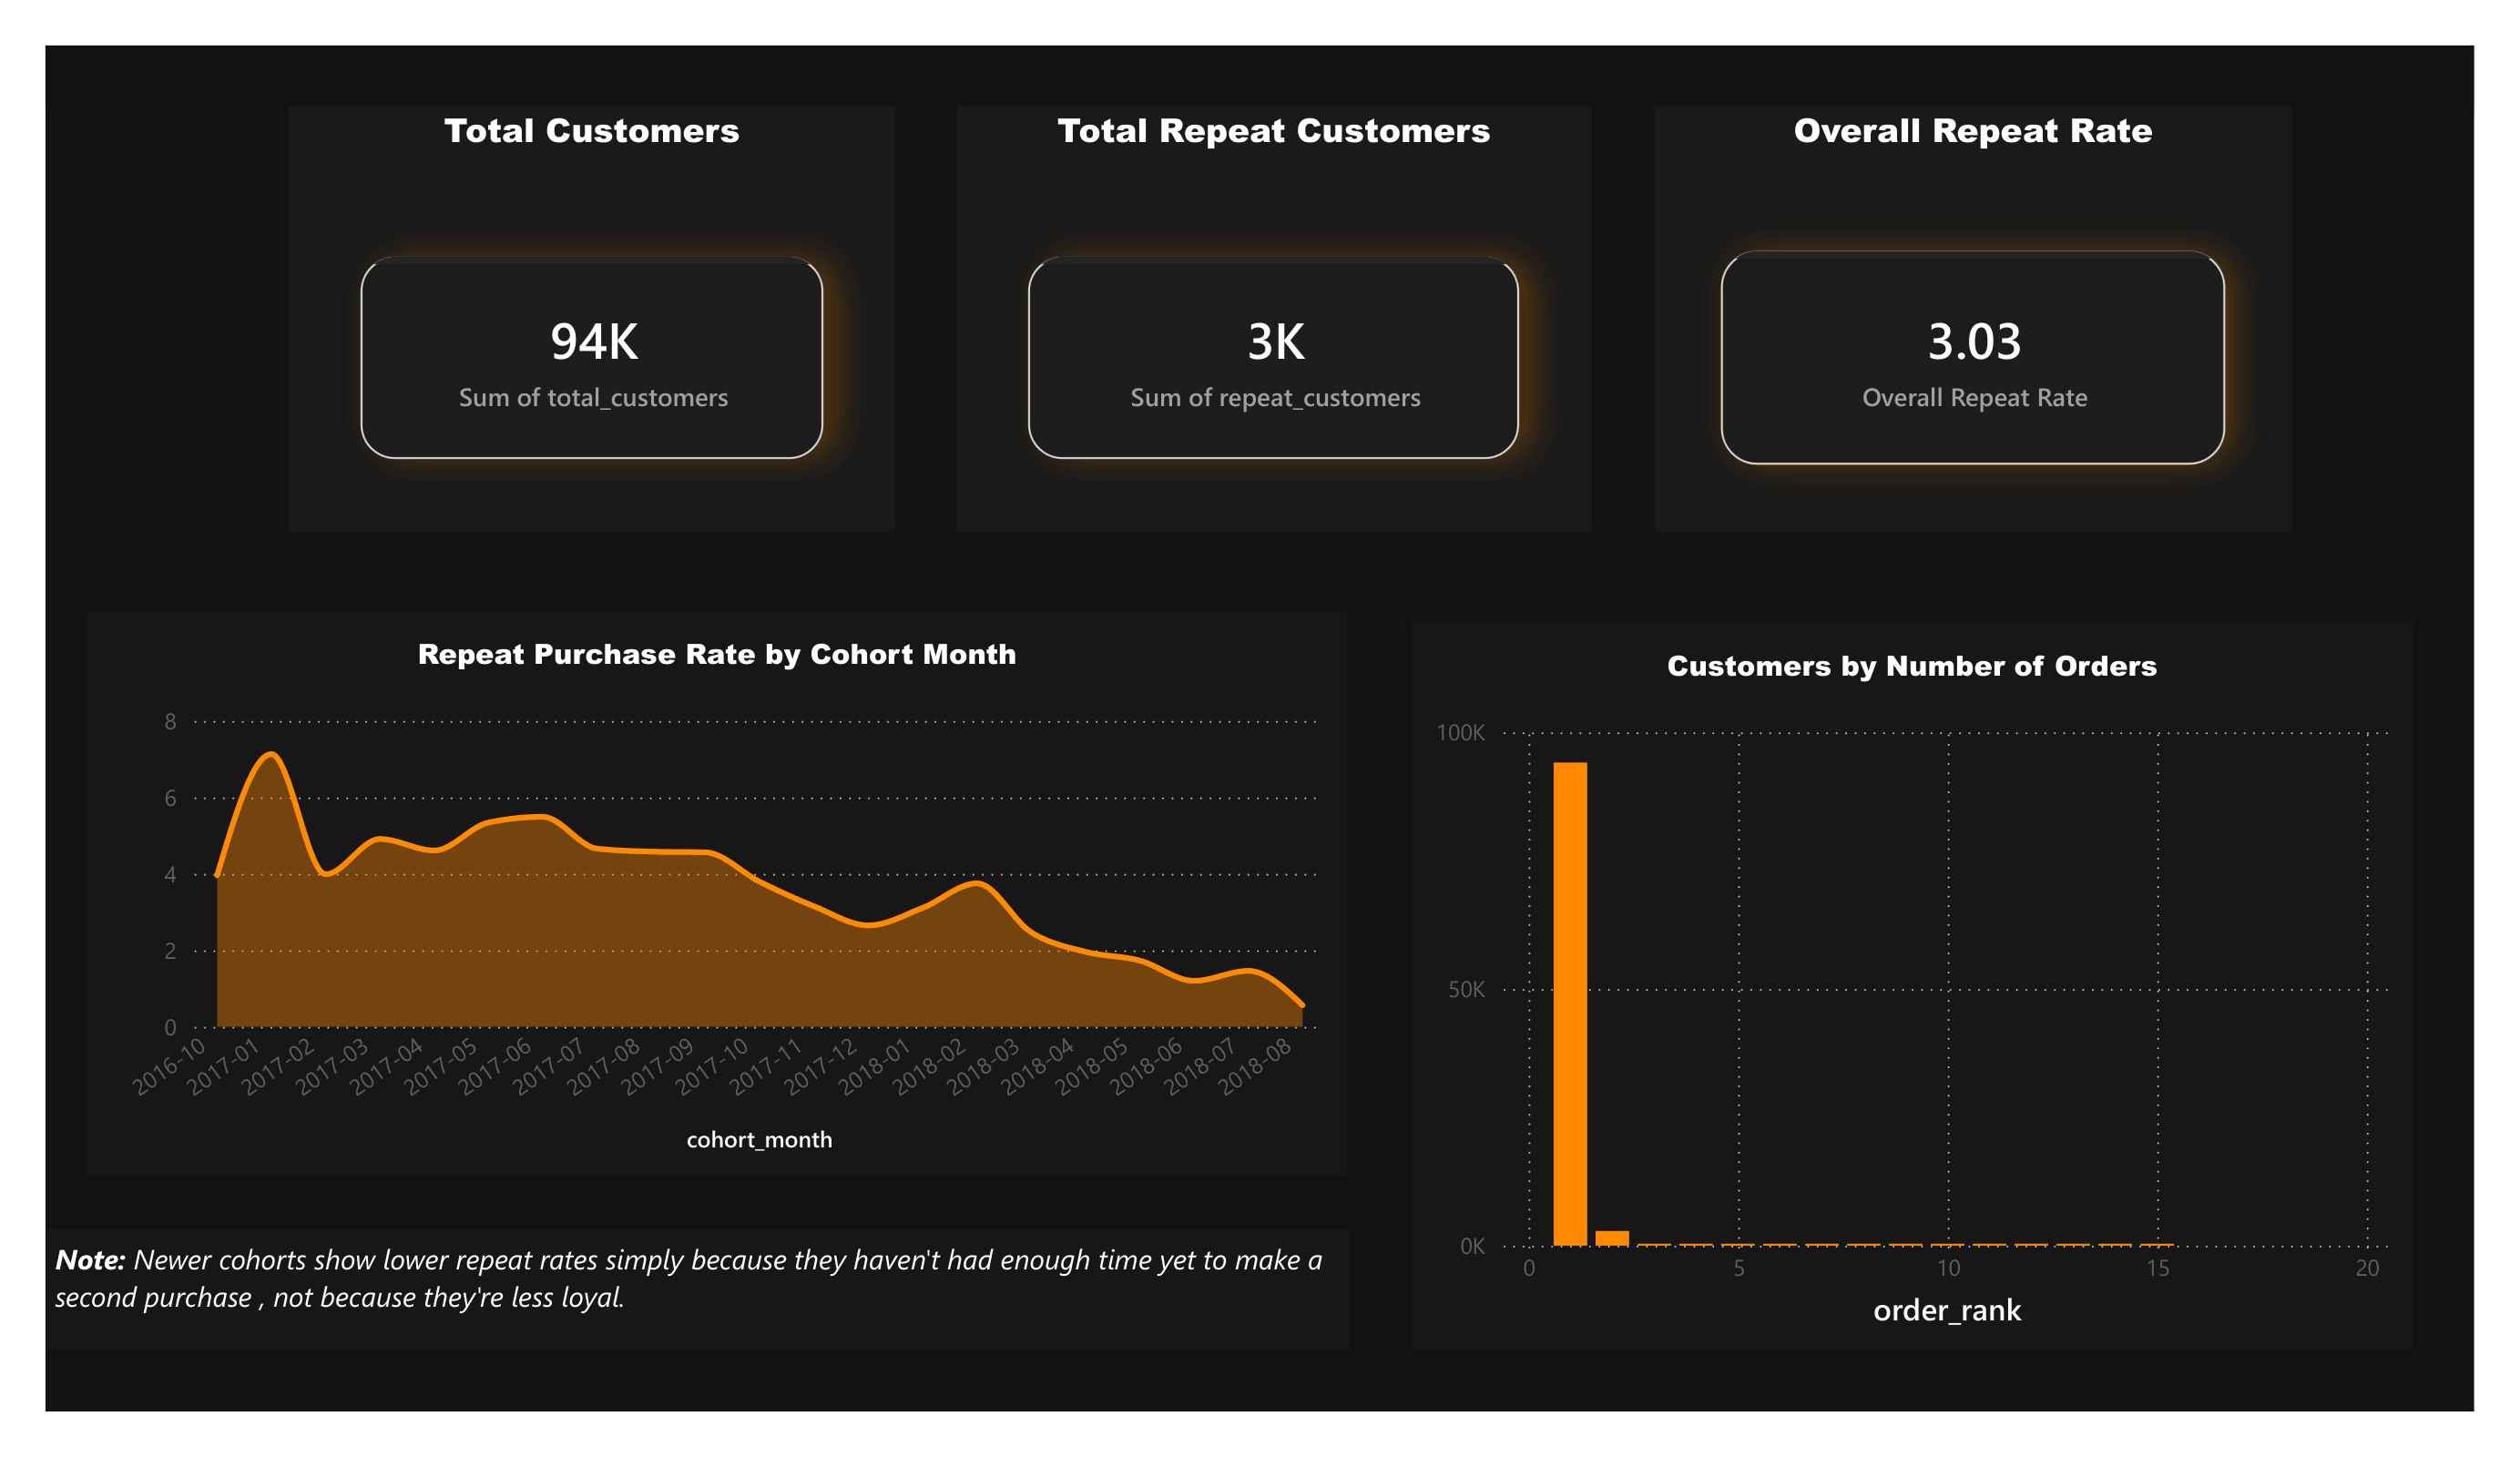

What the dashboard file says about the page in this screenshot:
{"tool":"powerbi","page":{"name":"Customer Behavior","canvas":[1280,720],"ordinal":1},"visuals":[{"type":"lineChart","title":"Repeat Purchase Rate by Cohort Month","fields":{"Category":["kpi_customer_repurchase_cohort.cohort_month"],"Y":["Sum(kpi_customer_repurchase_cohort.repeat_rate_pct)"]},"box":[22,297.8,664.2,297.8],"z":0},{"type":"textbox","box":[0,624,688,64],"z":1000},{"type":"cardVisual","title":"Total Repeat Customers","fields":{"Data":["Sum(kpi_customer_repurchase_cohort.repeat_customers)"]},"box":[480,32,334.8,223.7],"z":2000},{"type":"cardVisual","title":"Overall Repeat Rate","fields":{"Data":["kpi_customer_repurchase_cohort.Overall Repeat Rate"]},"box":[848,32,336,224],"z":3000},{"type":"cardVisual","title":"Total Customers","fields":{"Data":["Sum(kpi_customer_repurchase_cohort.total_customers)"]},"box":[128,32,320,224],"z":4000},{"type":"clusteredColumnChart","title":"Customers by Number of Orders","fields":{"Category":["kpi_order_count_distribution.order_rank"],"Y":["Sum(kpi_order_count_distribution.customer_count)"]},"box":[720,304,528,384],"z":5000}]}

Visuals, with their boxes on the page's 1280x720 design canvas (x1, y1, x2, y2). These are canvas units, not pixel positions in the 2520x1457 screenshot, which may show the page scaled, cropped or inside an application window:
"Repeat Purchase Rate by Cohort Month" lineChart: locate(22, 298, 686, 596)
textbox: locate(0, 624, 688, 688)
"Total Repeat Customers" cardVisual: locate(480, 32, 815, 256)
"Overall Repeat Rate" cardVisual: locate(848, 32, 1184, 256)
"Total Customers" cardVisual: locate(128, 32, 448, 256)
"Customers by Number of Orders" clusteredColumnChart: locate(720, 304, 1248, 688)
